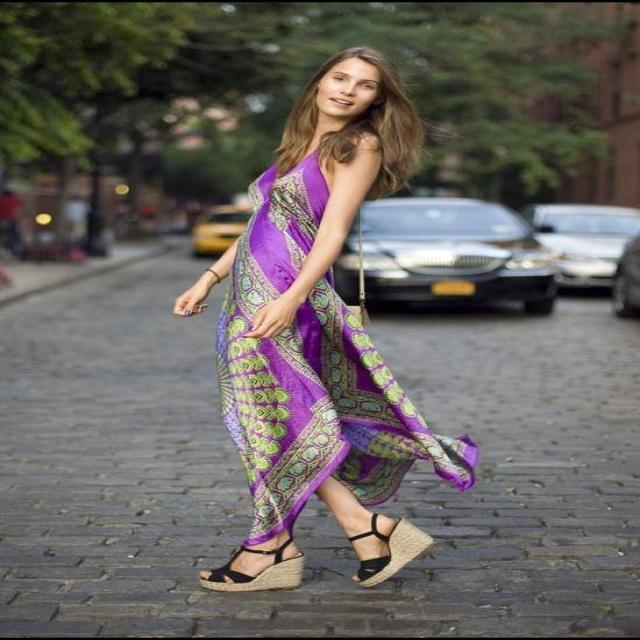dress: (216, 128, 480, 548)
